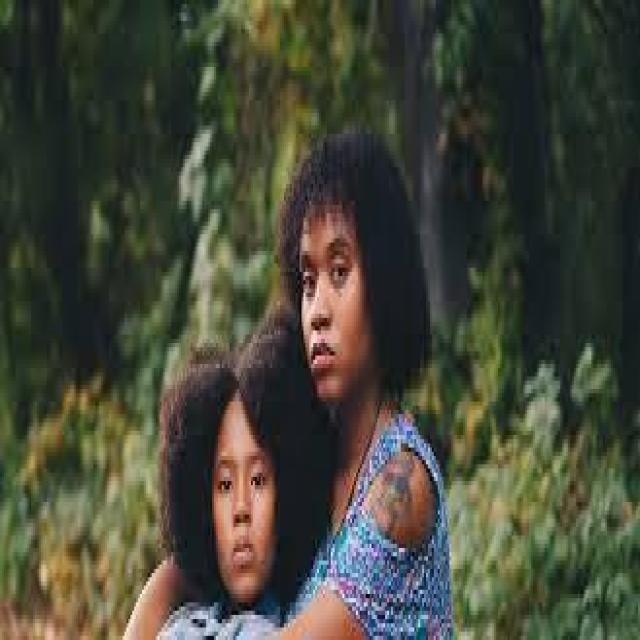no-helmet: (298, 209, 366, 410), (212, 406, 276, 606)
